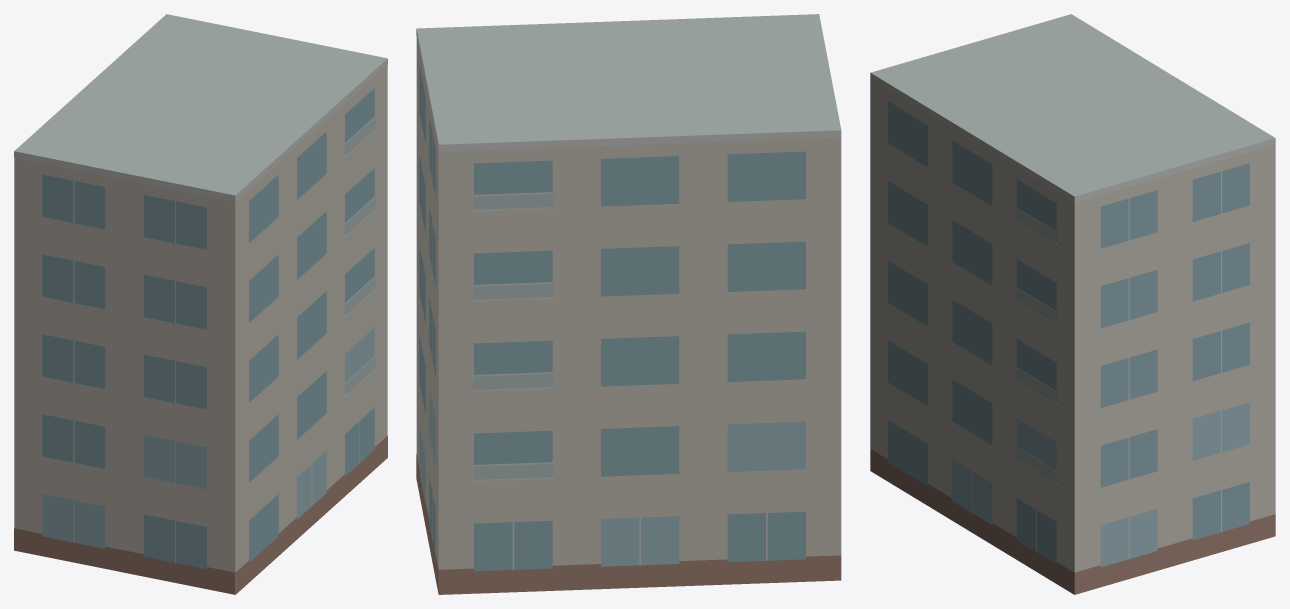
File: survey-upis-32824228.glb
3 renders of one model, left to right at view 1: azimuth 30°, elevation 25°; view 2: azimuth 150°, elevation 25°; view 3: azimuth 270°, elevation 25°, orthographic. The views are drawn at different scales.
Parts seen in each view (by area): view 1: survey-upis-32824228.tmp; view 2: survey-upis-32824228.tmp; view 3: survey-upis-32824228.tmp.
Part boxes in pixels (left/top/right/bottom): survey-upis-32824228.tmp: left=14, top=14, right=387, bottom=594; survey-upis-32824228.tmp: left=416, top=14, right=841, bottom=594; survey-upis-32824228.tmp: left=870, top=14, right=1275, bottom=594.
Size of the model in its own units: 15.17 by 15.42 by 14.23.
